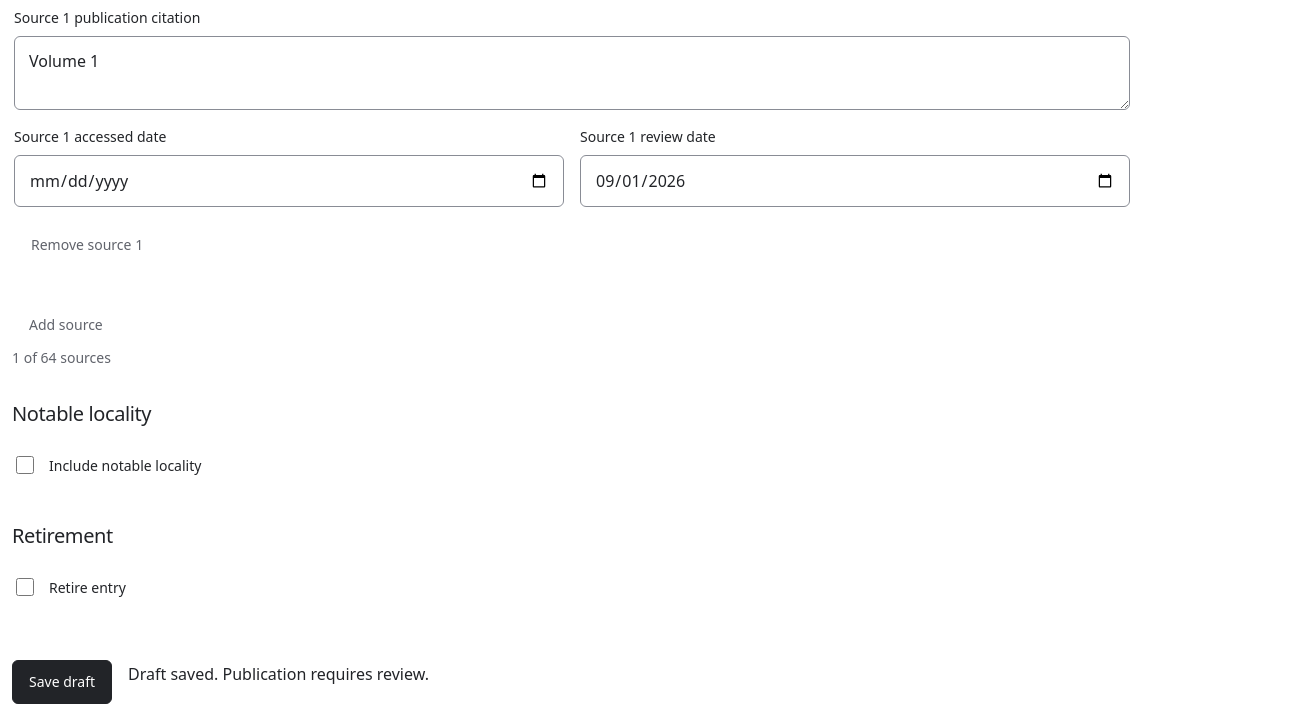
gem editor › requires a confirmed save after reconciling versions without changing content
This screenshot has width=1292, height=720.
(page scrolled)
Expected: the text "Draft saved. Publication requires review." is shown, [128,662,429,686]
Click the button "Save draft": x=62, y=682 [12,660,112,704]
(page scrolled)
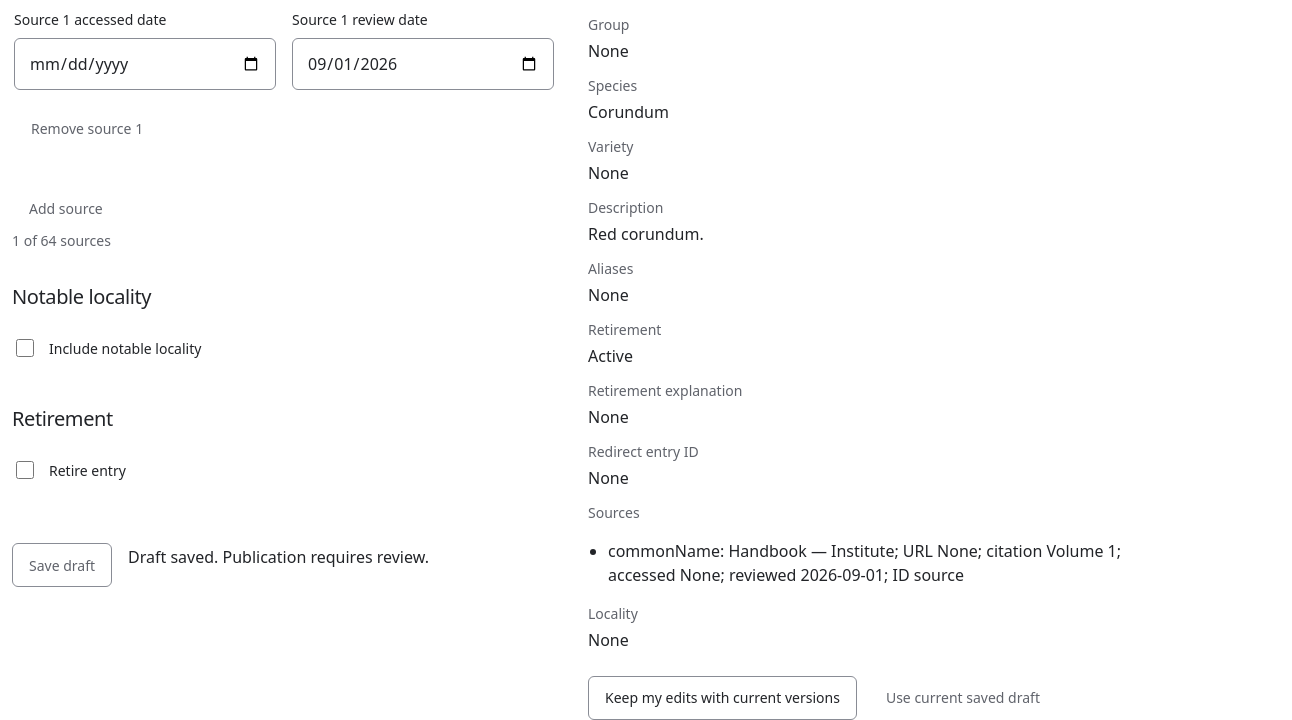
WHEN the admin keeps identical content with current versions.
Click the button "Keep my edits with current versions": x=722, y=698 [588,676,857,719]
(page scrolled)
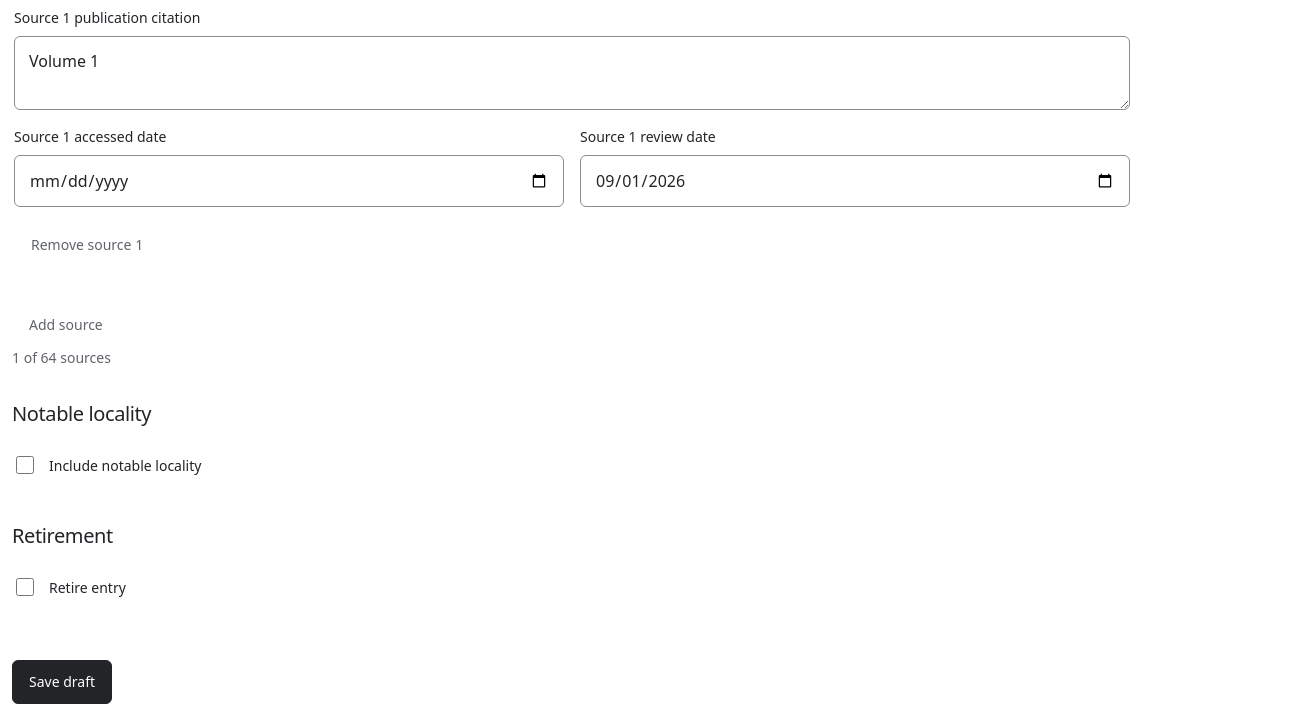
Result: the text "Draft saved. Publication requires review." is gone
WHEN the rebase is persisted THEN the saved state and navigation guard clear.
Click the button "Save draft": x=62, y=682 [12,660,112,704]
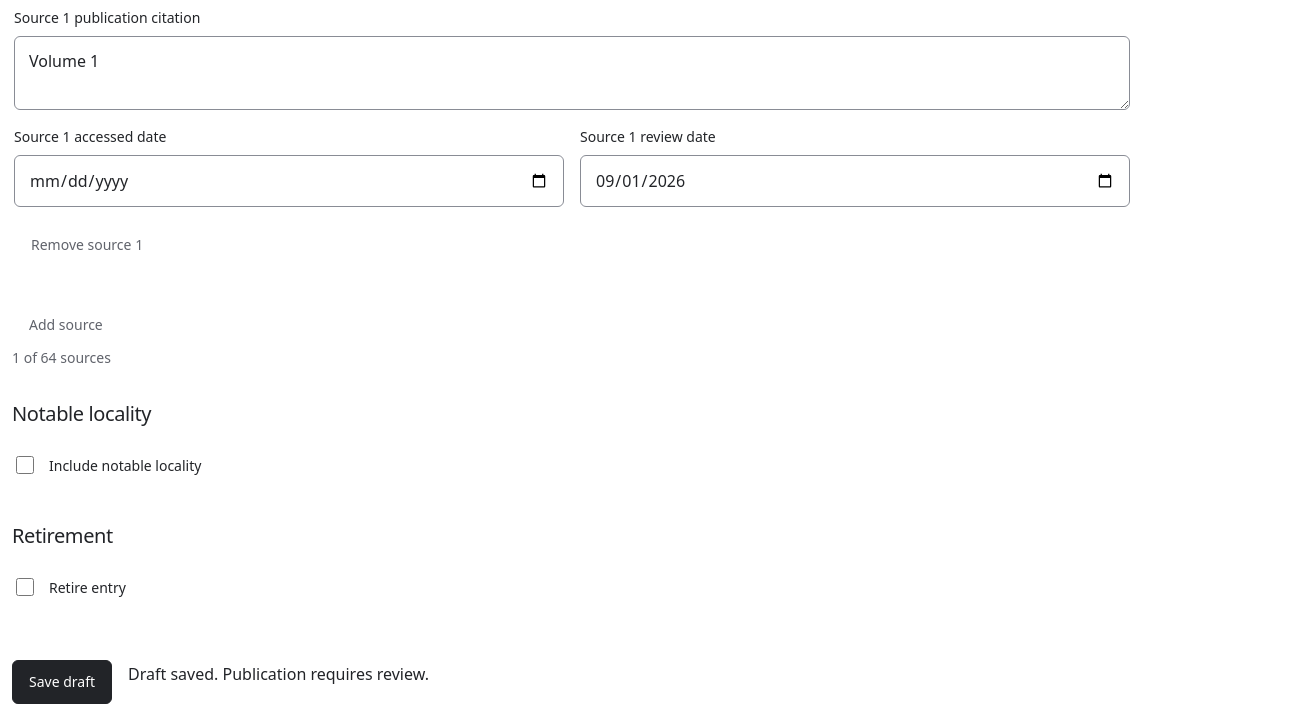
Result: the text "Draft saved. Publication requires review." is shown at [128,662,429,686]
